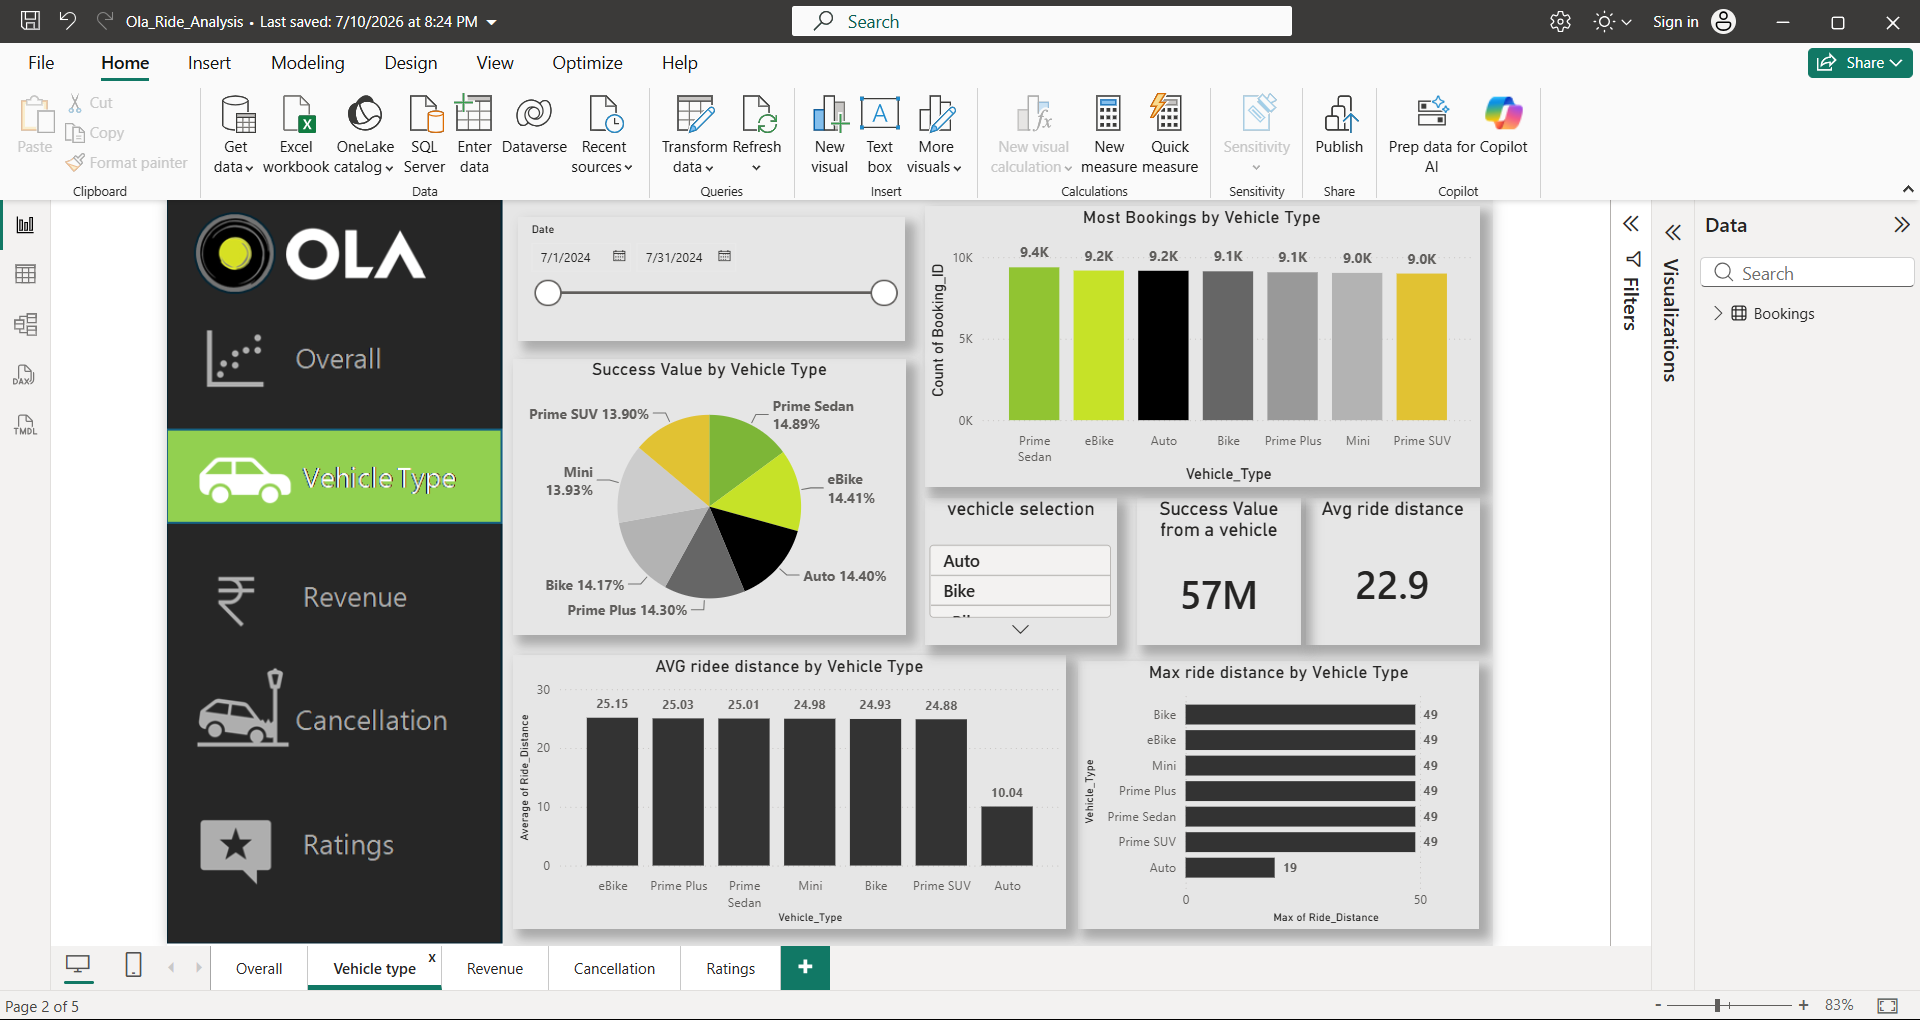

Layout of this report page (visuals, bound fields, positions):
{"tool":"powerbi","page":{"name":"Vehicle type","canvas":[1280,720],"ordinal":1},"visuals":[{"type":"actionButton","box":[0,106.2,324.5,94.1],"z":0},{"type":"actionButton","box":[0,335.4,324.5,94.1],"z":1000},{"type":"actionButton","box":[0,445.2,324.5,106.2],"z":2000},{"type":"actionButton","box":[0,564.6,324.5,123.1],"z":3000},{"type":"cardVisual","title":"Success Value ₹","fields":{"Data":["Sum(Bookings.Booking_Value)"]},"box":[532.4,166,178.4,70],"z":4000},{"type":"cardVisual","title":"Success Value ₹","fields":{"Data":["Sum(Bookings.Booking_Value)"]},"box":[532.4,236,178.4,70],"z":5000},{"type":"cardVisual","title":"Success Value ₹","fields":{"Data":["Sum(Bookings.Booking_Value)"]},"box":[532.4,312.9,178.4,70],"z":6000},{"type":"cardVisual","title":"Success Value ₹","fields":{"Data":["Sum(Bookings.Booking_Value)"]},"box":[532.4,382.8,178.4,70],"z":7000},{"type":"cardVisual","title":"Success Value ₹","fields":{"Data":["Sum(Bookings.Booking_Value)"]},"box":[532.4,462.4,178.4,70],"z":8000},{"type":"cardVisual","title":"Success Value ₹","fields":{"Data":["Sum(Bookings.Booking_Value)"]},"box":[532.4,532.4,178.4,70],"z":9000},{"type":"cardVisual","title":"Success Value ₹","fields":{"Data":["Sum(Bookings.Booking_Value)"]},"box":[532.4,602.4,178.4,70],"z":10000},{"type":"cardVisual","title":"Success Value ₹","fields":{"Data":["Sum(Bookings.Booking_Value)"]},"box":[710.8,164.7,177,70],"z":11000},{"type":"cardVisual","title":"Success Value ₹","fields":{"Data":["Sum(Bookings.Booking_Value)"]},"box":[710.8,237.4,177,70],"z":12000},{"type":"cardVisual","title":"Success Value ₹","fields":{"Data":["Sum(Bookings.Booking_Value)"]},"box":[713,312.5,177.3,70],"z":13000},{"type":"cardVisual","title":"Success Value ₹","fields":{"Data":["Sum(Bookings.Booking_Value)"]},"box":[710.8,382.8,177,70],"z":14000},{"type":"cardVisual","title":"Success Value ₹","fields":{"Data":["Sum(Bookings.Booking_Value)"]},"box":[710.8,462.4,177,70],"z":15000},{"type":"cardVisual","title":"Success Value ₹","fields":{"Data":["Sum(Bookings.Booking_Value)"]},"box":[710.8,532.4,177,70],"z":16000},{"type":"cardVisual","title":"Success Value ₹","fields":{"Data":["Sum(Bookings.Booking_Value)"]},"box":[710.8,602.4,177,70],"z":17000},{"type":"cardVisual","title":"Success Value ₹","fields":{"Data":["Avg(Bookings.Ride_Distance)"]},"box":[887.8,167.4,177,70],"z":18000},{"type":"cardVisual","title":"Success Value ₹","fields":{"Data":["Avg(Bookings.Ride_Distance)"]},"box":[889.2,238.8,177,70],"z":19000},{"type":"cardVisual","title":"Success Value ₹","fields":{"Data":["Avg(Bookings.Ride_Distance)"]},"box":[890.4,312.5,177.3,70],"z":20000},{"type":"cardVisual","title":"Success Value ₹","fields":{"Data":["Avg(Bookings.Ride_Distance)"]},"box":[890.6,382.8,177,70],"z":21000},{"type":"cardVisual","title":"Success Value ₹","fields":{"Data":["Avg(Bookings.Ride_Distance)"]},"box":[890.6,462.4,177,70],"z":22000},{"type":"cardVisual","title":"Success Value ₹","fields":{"Data":["Avg(Bookings.Ride_Distance)"]},"box":[887.8,532.4,177,70],"z":23000},{"type":"cardVisual","title":"Success Value ₹","fields":{"Data":["Avg(Bookings.Ride_Distance)"]},"box":[890.6,602.4,177,70],"z":24000},{"type":"cardVisual","title":"Success Value ₹","fields":{"Data":["Sum(Bookings.Ride_Distance)"]},"box":[1064.8,164.7,177,70],"z":25000},{"type":"cardVisual","title":"Success Value ₹","fields":{"Data":["Sum(Bookings.Ride_Distance)"]},"box":[1065.3,242.5,177.3,70],"z":26000},{"type":"cardVisual","title":"Success Value ₹","fields":{"Data":["Sum(Bookings.Ride_Distance)"]},"box":[1066.5,312.5,177.3,70],"z":27000},{"type":"cardVisual","title":"Success Value ₹","fields":{"Data":["Sum(Bookings.Ride_Distance)"]},"box":[1065.3,382.4,177.3,70],"z":28000},{"type":"cardVisual","title":"Success Value ₹","fields":{"Data":["Sum(Bookings.Ride_Distance)"]},"box":[1064.1,462.1,177.3,70],"z":29000},{"type":"cardVisual","title":"Success Value ₹","fields":{"Data":["Sum(Bookings.Ride_Distance)"]},"box":[1066.5,532,177.3,70],"z":30000},{"type":"cardVisual","title":"Success Value ₹","fields":{"Data":["Sum(Bookings.Ride_Distance)"]},"box":[1067.7,602,177.3,70],"z":31000},{"type":"shape","box":[324.5,0,955.5,720.2],"z":32000},{"type":"pieChart","title":"Success Value by Vehicle Type","fields":{"Category":["Bookings.Vehicle_Type"],"Y":["Sum(Bookings.Booking_Value)"]},"box":[334.2,153.2,378.8,266.6],"z":33000},{"type":"columnChart","title":"Most Bookings by Vehicle Type","fields":{"Category":["Bookings.Vehicle_Type"],"Y":["CountNonNull(Bookings.Booking_ID)"]},"box":[731.1,6,535.7,271.4],"z":34000},{"type":"columnChart","title":"AVG ridee distance by Vehicle Type","fields":{"Category":["Bookings.Vehicle_Type"],"Y":["Avg(Bookings.Ride_Distance)"]},"box":[334.2,439.1,533.2,264.2],"z":35000},{"type":"slicer","fields":{"Values":["Bookings.Date"]},"box":[339,16.9,374,119.4],"z":37000},{"type":"cardVisual","title":"vechicle selection","fields":{"Rows":["Bookings.Vehicle_Type"]},"box":[731.1,287.1,185.8,142.4],"z":37001},{"type":"cardVisual","title":"Success Value from a vehicle","fields":{"Data":["Sum(Bookings.Booking_Value)"]},"box":[936.2,287.1,158,142.4],"z":37002},{"type":"cardVisual","title":"Avg ride distance","fields":{"Data":["Avg(Bookings.Ride_Distance)"]},"box":[1099.1,287.1,167.7,142.4],"z":37003},{"type":"clusteredBarChart","title":"Max ride distance by Vehicle Type","fields":{"Category":["Bookings.Vehicle_Type"],"Y":["Max(Bookings.Ride_Distance)"]},"box":[879.5,445.2,387.3,258.2],"z":37004}]}

Visuals, with their boxes on the page's 1280x720 design canvas (x1, y1, x2, y2). These are canvas units, not pixel positions in the 1920x1020 screenshot, which may show the page scaled, cropped or inside an application window:
actionButton: left=0, top=106, right=324, bottom=200
actionButton: left=0, top=335, right=324, bottom=430
actionButton: left=0, top=445, right=324, bottom=551
actionButton: left=0, top=565, right=324, bottom=688
"Success Value ₹" cardVisual: left=532, top=166, right=711, bottom=236
"Success Value ₹" cardVisual: left=532, top=236, right=711, bottom=306
"Success Value ₹" cardVisual: left=532, top=313, right=711, bottom=383
"Success Value ₹" cardVisual: left=532, top=383, right=711, bottom=453
"Success Value ₹" cardVisual: left=532, top=462, right=711, bottom=532
"Success Value ₹" cardVisual: left=532, top=532, right=711, bottom=602
"Success Value ₹" cardVisual: left=532, top=602, right=711, bottom=672
"Success Value ₹" cardVisual: left=711, top=165, right=888, bottom=235
"Success Value ₹" cardVisual: left=711, top=237, right=888, bottom=307
"Success Value ₹" cardVisual: left=713, top=312, right=890, bottom=382
"Success Value ₹" cardVisual: left=711, top=383, right=888, bottom=453
"Success Value ₹" cardVisual: left=711, top=462, right=888, bottom=532
"Success Value ₹" cardVisual: left=711, top=532, right=888, bottom=602
"Success Value ₹" cardVisual: left=711, top=602, right=888, bottom=672
"Success Value ₹" cardVisual: left=888, top=167, right=1065, bottom=237
"Success Value ₹" cardVisual: left=889, top=239, right=1066, bottom=309
"Success Value ₹" cardVisual: left=890, top=312, right=1068, bottom=382
"Success Value ₹" cardVisual: left=891, top=383, right=1068, bottom=453
"Success Value ₹" cardVisual: left=891, top=462, right=1068, bottom=532
"Success Value ₹" cardVisual: left=888, top=532, right=1065, bottom=602
"Success Value ₹" cardVisual: left=891, top=602, right=1068, bottom=672
"Success Value ₹" cardVisual: left=1065, top=165, right=1242, bottom=235
"Success Value ₹" cardVisual: left=1065, top=242, right=1243, bottom=312
"Success Value ₹" cardVisual: left=1066, top=312, right=1244, bottom=382
"Success Value ₹" cardVisual: left=1065, top=382, right=1243, bottom=452
"Success Value ₹" cardVisual: left=1064, top=462, right=1241, bottom=532
"Success Value ₹" cardVisual: left=1066, top=532, right=1244, bottom=602
"Success Value ₹" cardVisual: left=1068, top=602, right=1245, bottom=672
shape: left=324, top=0, right=1280, bottom=720
"Success Value by Vehicle Type" pieChart: left=334, top=153, right=713, bottom=420
"Most Bookings by Vehicle Type" columnChart: left=731, top=6, right=1267, bottom=277
"AVG ridee distance by Vehicle Type" columnChart: left=334, top=439, right=867, bottom=703
slicer - Bookings.Date: left=339, top=17, right=713, bottom=136
"vechicle selection" cardVisual: left=731, top=287, right=917, bottom=430
"Success Value from a vehicle" cardVisual: left=936, top=287, right=1094, bottom=430
"Avg ride distance" cardVisual: left=1099, top=287, right=1267, bottom=430
"Max ride distance by Vehicle Type" clusteredBarChart: left=880, top=445, right=1267, bottom=703
